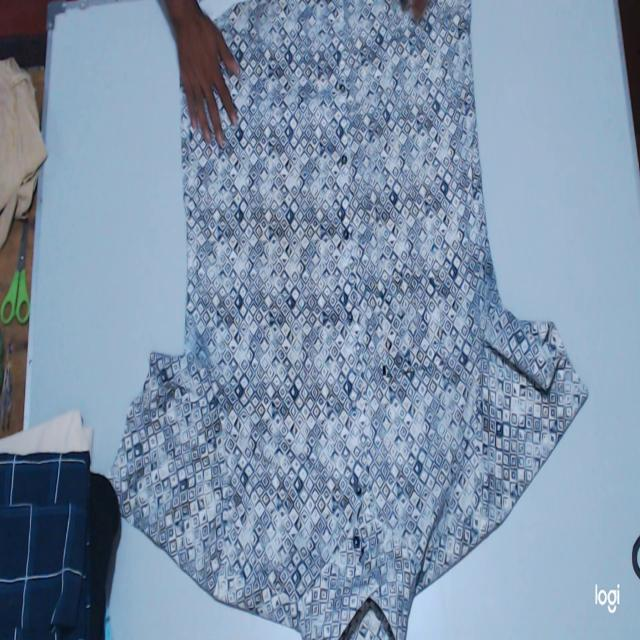new-garment: (112, 0, 586, 639)
